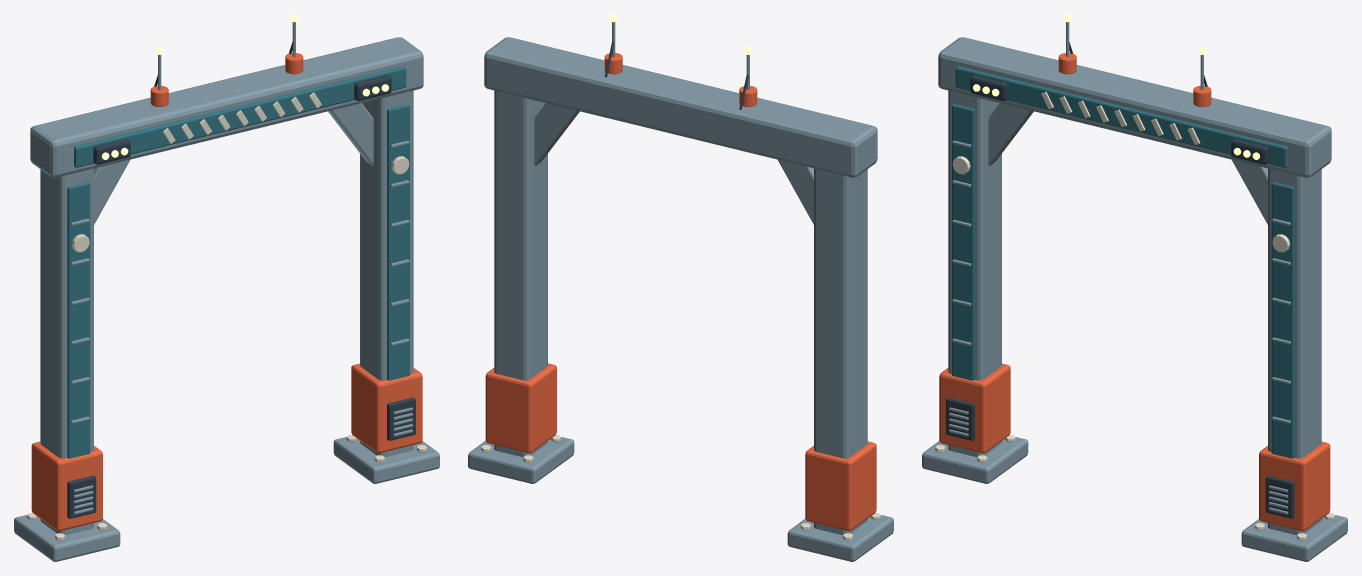
The model's file is HarborSignalGantry.fbx.
3 renders of one model, left to right at view 1: azimuth 30°, elevation 25°; view 2: azimuth 150°, elevation 25°; view 3: azimuth 330°, elevation 25°, orthographic.
Parts seen in each view (by area): view 1: Upper transverse beam, Column | load path, Column | load path.001, Front painted inset, Front painted inset.001, Inset crossbeam face, Lower orange base shroud, Lower orange base shroud.001, Galvanized foot flange.001, Galvanized foot flange, Knee brace.001, Knee brace (+4 smaller); view 2: Upper transverse beam, Column | load path, Column | load path.001, Lower orange base shroud.001, Lower orange base shroud, Galvanized foot flange.001, Galvanized foot flange, Knee brace.001, Knee brace; view 3: Upper transverse beam, Column | load path.001, Column | load path, Front painted inset.001, Front painted inset, Inset crossbeam face, Lower orange base shroud.001, Lower orange base shroud, Galvanized foot flange, Galvanized foot flange.001, Knee brace, Knee brace.001 (+4 smaller).
Boxes of the visible parts, left/top/right/bottom form: Upper transverse beam: left=30, top=37, right=423, bottom=177; Column | load path: left=40, top=168, right=93, bottom=535; Column | load path.001: left=360, top=90, right=413, bottom=457; Front painted inset: left=67, top=182, right=90, bottom=458; Front painted inset.001: left=387, top=104, right=409, bottom=380; Inset crossbeam face: left=74, top=66, right=406, bottom=167; Lower orange base shroud: left=31, top=441, right=102, bottom=531; Lower orange base shroud.001: left=351, top=363, right=422, bottom=453; Galvanized foot flange.001: left=333, top=437, right=439, bottom=483; Galvanized foot flange: left=14, top=515, right=120, bottom=561; Knee brace.001: left=328, top=103, right=373, bottom=165; Knee brace: left=94, top=159, right=129, bottom=224; Upper transverse beam: left=484, top=37, right=877, bottom=177; Column | load path: left=814, top=168, right=867, bottom=535; Column | load path.001: left=494, top=90, right=547, bottom=457; Lower orange base shroud.001: left=485, top=363, right=556, bottom=452; Lower orange base shroud: left=805, top=441, right=876, bottom=530; Galvanized foot flange.001: left=468, top=437, right=574, bottom=483; Galvanized foot flange: left=787, top=515, right=893, bottom=561; Knee brace.001: left=534, top=103, right=579, bottom=165; Knee brace: left=778, top=159, right=813, bottom=224; Upper transverse beam: left=938, top=37, right=1331, bottom=177; Column | load path.001: left=1268, top=168, right=1321, bottom=535; Column | load path: left=948, top=90, right=1001, bottom=457; Front painted inset.001: left=1271, top=182, right=1294, bottom=458; Front painted inset: left=952, top=104, right=974, bottom=380; Inset crossbeam face: left=955, top=66, right=1287, bottom=167; Lower orange base shroud.001: left=1259, top=441, right=1330, bottom=531; Lower orange base shroud: left=939, top=363, right=1010, bottom=453; Galvanized foot flange: left=922, top=437, right=1028, bottom=483; Galvanized foot flange.001: left=1241, top=515, right=1347, bottom=561; Knee brace: left=988, top=103, right=1033, bottom=165; Knee brace.001: left=1232, top=159, right=1267, bottom=224.
Size of the model in its own units: 368 by 427 by 68.
